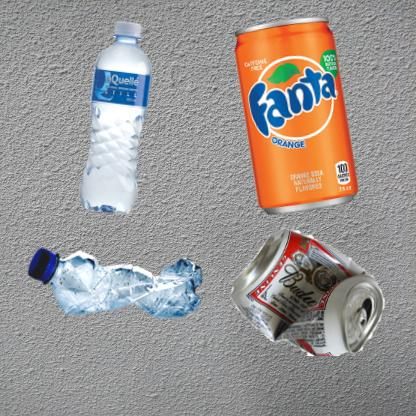botella: (10, 10, 226, 226), (10, 213, 249, 370)
lata: (213, 10, 387, 233), (213, 213, 409, 358)
